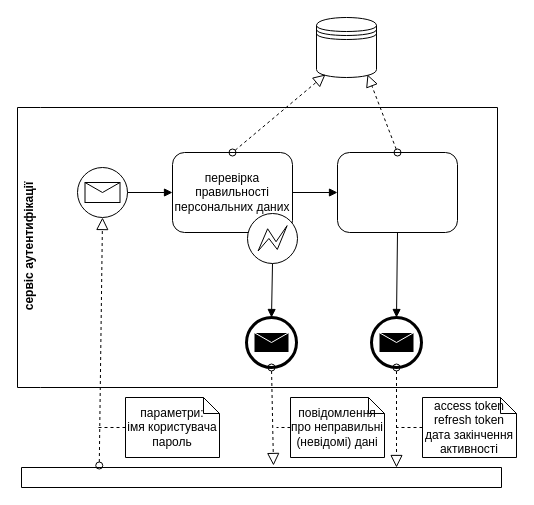
Image size: 534x505. Some labels were removed from this diagram. Each missing label, with the box of its shape:
генерація нових access token і refresh token: (336, 152, 458, 232)
Користувач: (20, 466, 502, 488)
